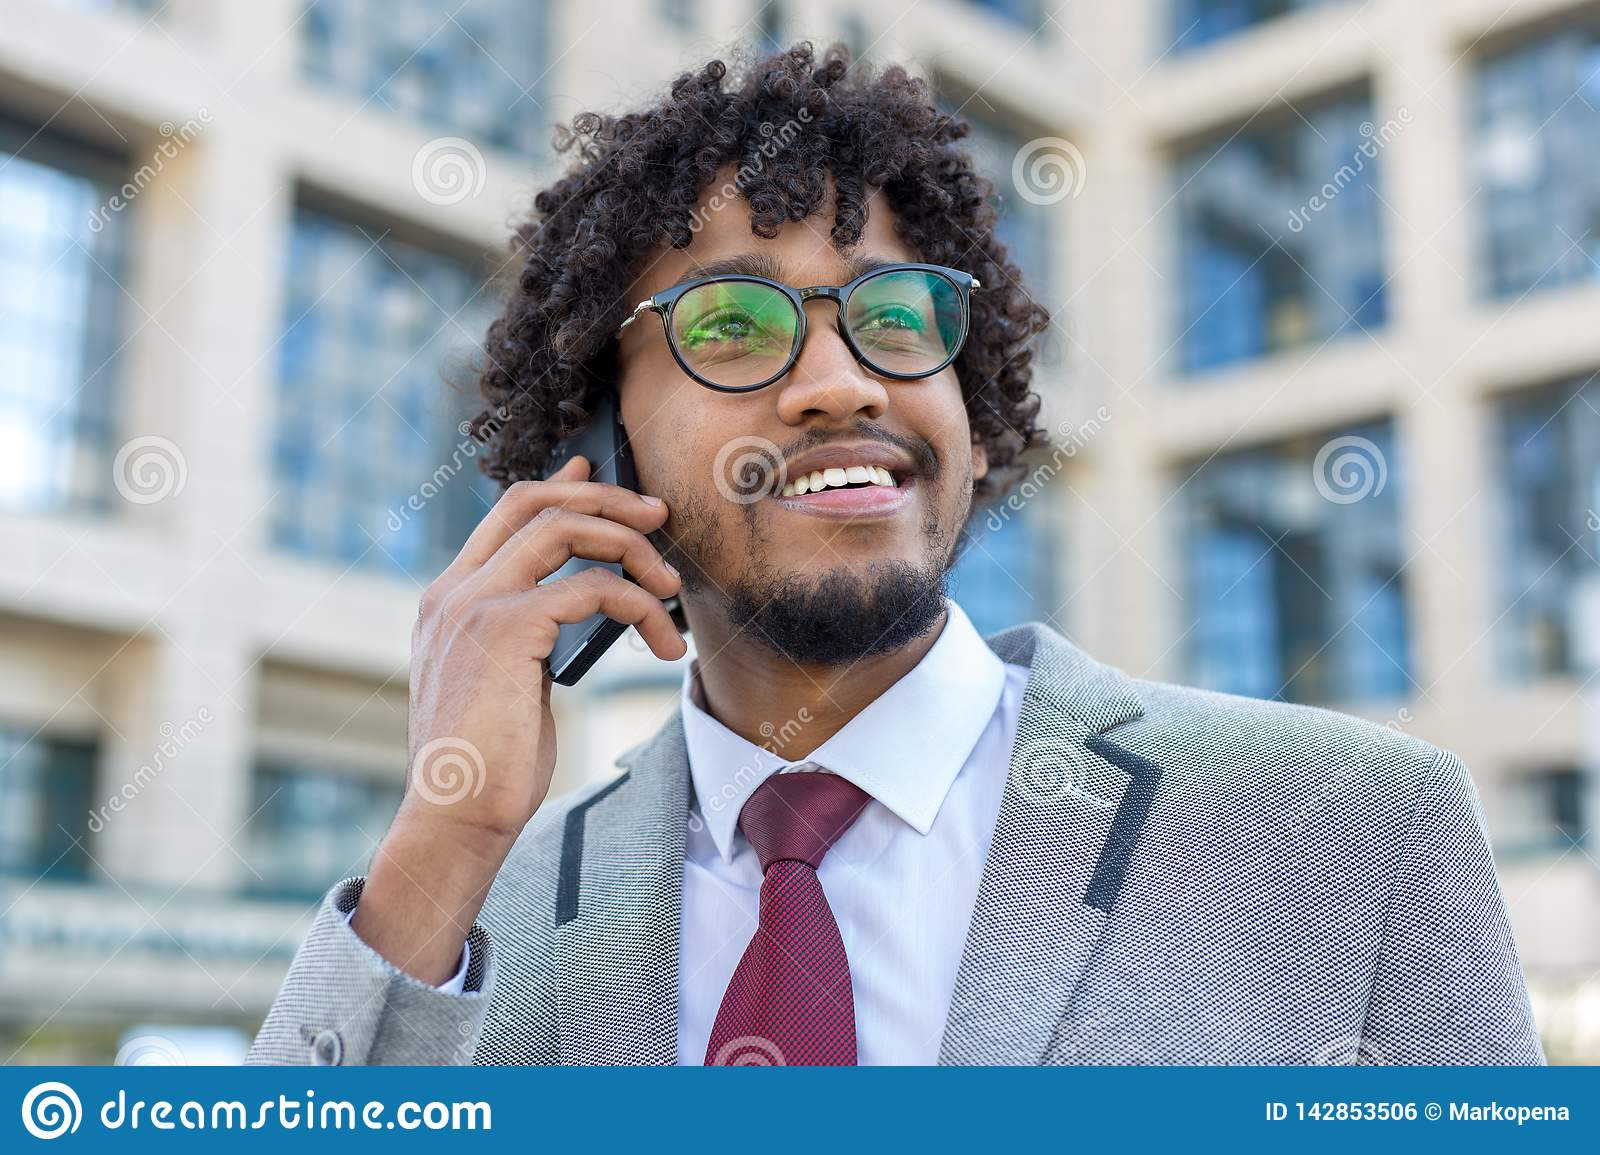phone: (530, 375, 642, 689)
talk: (406, 237, 976, 828)
